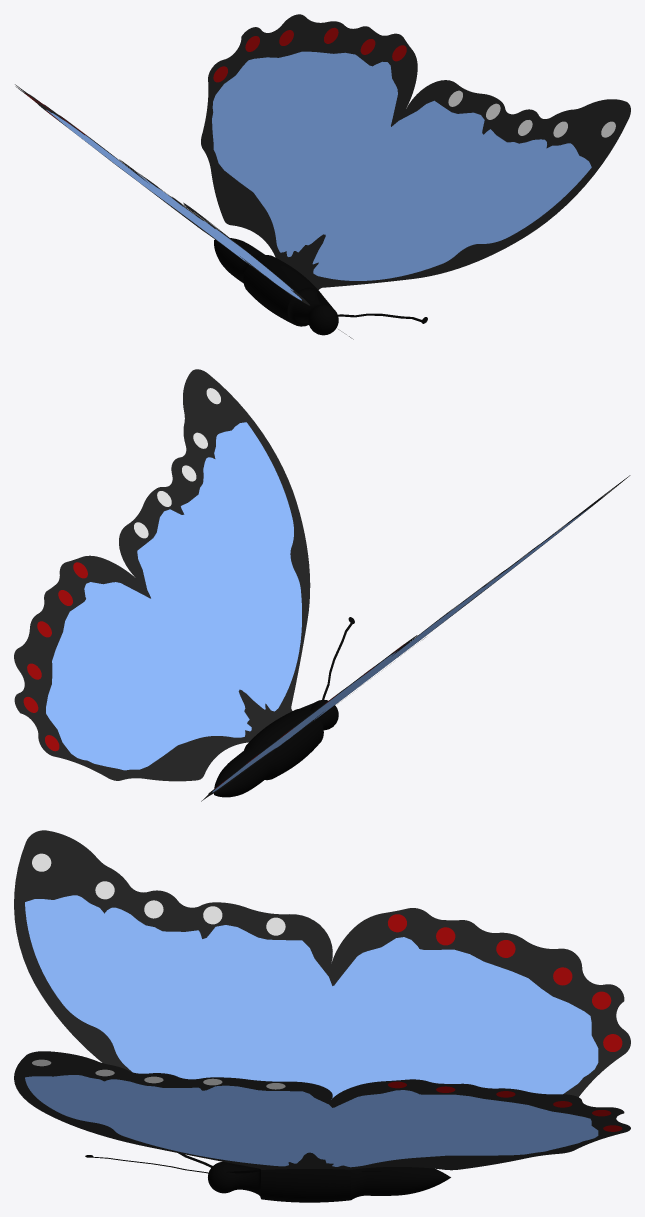
File: butterfly2.fbx
3 views of the same model, one above another, from view 1: azimuth 30°, elevation 25°; view 2: azimuth 150°, elevation 25°; view 3: azimuth 270°, elevation 25° (orthographic). The views are drawn at different scales.
Visible parts, largest first — view 1: Group4, Group2, Group6; view 2: Group4, Group2, Group6; view 3: Group6, Group4, Group2.
Part boxes in pixels (x1,y1,x2,y2): Group4: (201, 14, 630, 323); Group2: (214, 238, 338, 335); Group6: (15, 84, 353, 339); Group4: (14, 369, 354, 781); Group2: (214, 699, 338, 797); Group6: (201, 475, 630, 801); Group6: (14, 830, 630, 1167); Group4: (14, 1051, 630, 1173); Group2: (208, 1161, 450, 1202).
Size of the model in its own units: 94.48 by 51.8 by 112.
